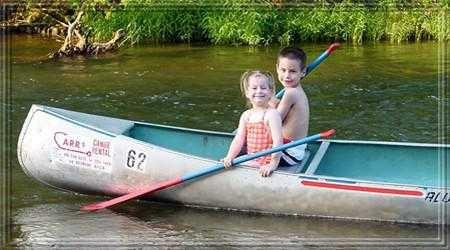kayak: (21, 106, 449, 224)
